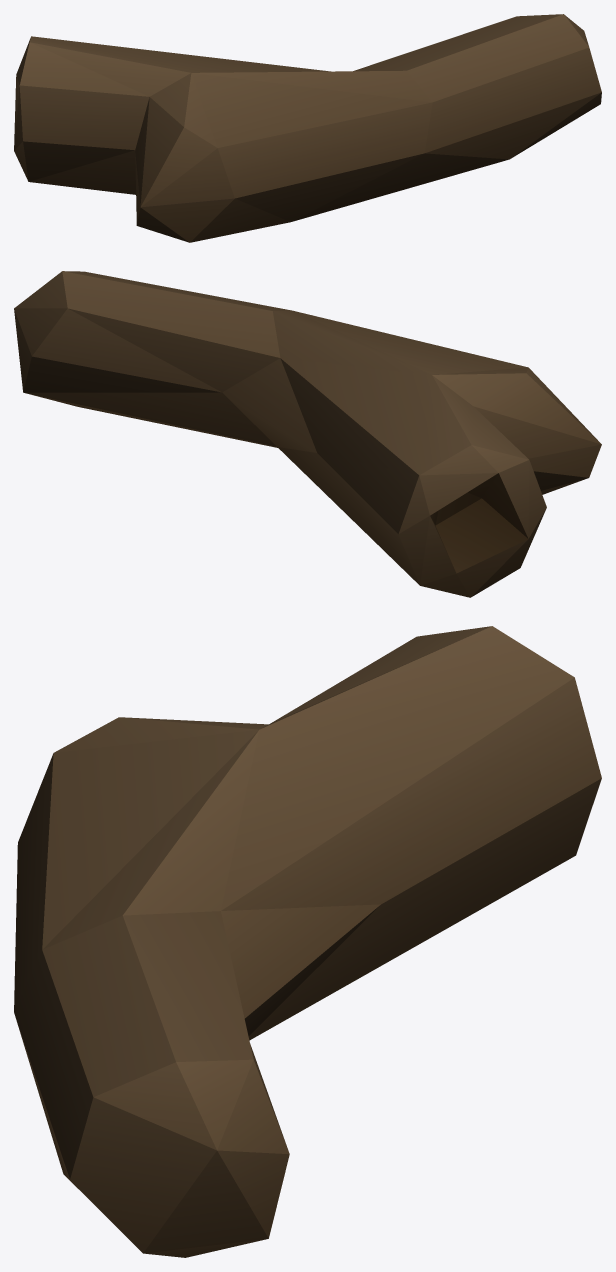
The model's file is props 0 - 12.fbx.
The picture shows the model from 3 angles, top to bottom: view 1: azimuth 30°, elevation 25°; view 2: azimuth 150°, elevation 25°; view 3: azimuth 270°, elevation 25°; orthographic projection. The views are drawn at different scales.
Parts seen in each view (by area): view 1: 012; view 2: 012; view 3: 012.
Boxes of the visible parts, x1=… form: 012: x1=14, y1=14, x2=601, y2=242; 012: x1=14, y1=271, x2=601, y2=597; 012: x1=14, y1=626, x2=601, y2=1257.
Bounding box in the file's own units: 208 × 53.02 × 112.
